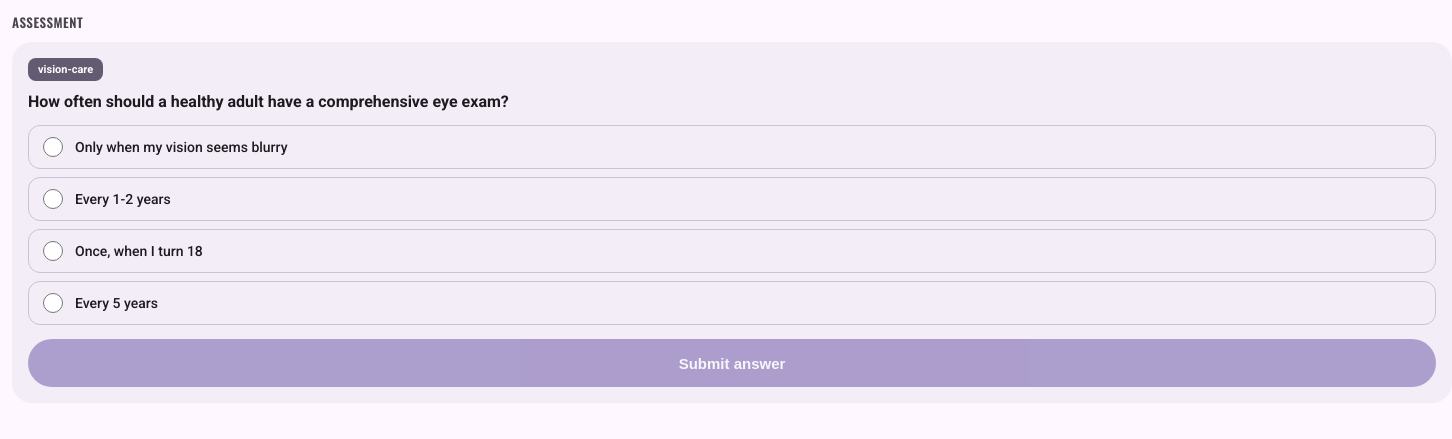
Test case: MCQ knowledge check (US-18 / FR-E4) › names the correct option when the answer is wrong
Click the radio button labelled "Once, when I turn 18" at (53, 251), box [43,241,63,261]
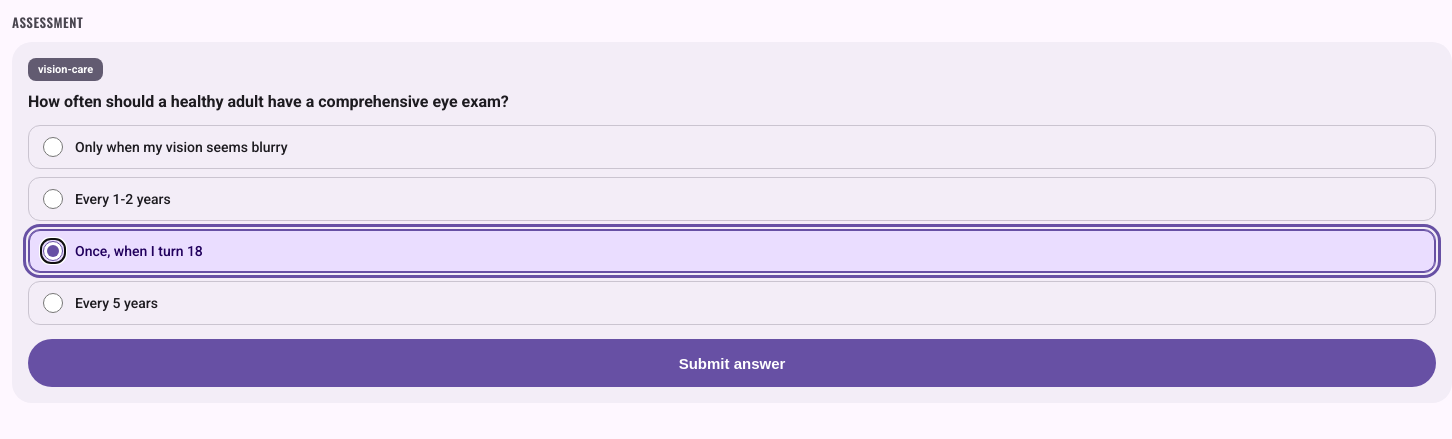
Click the button "Submit answer" at (732, 363), box [28,339,1436,387]
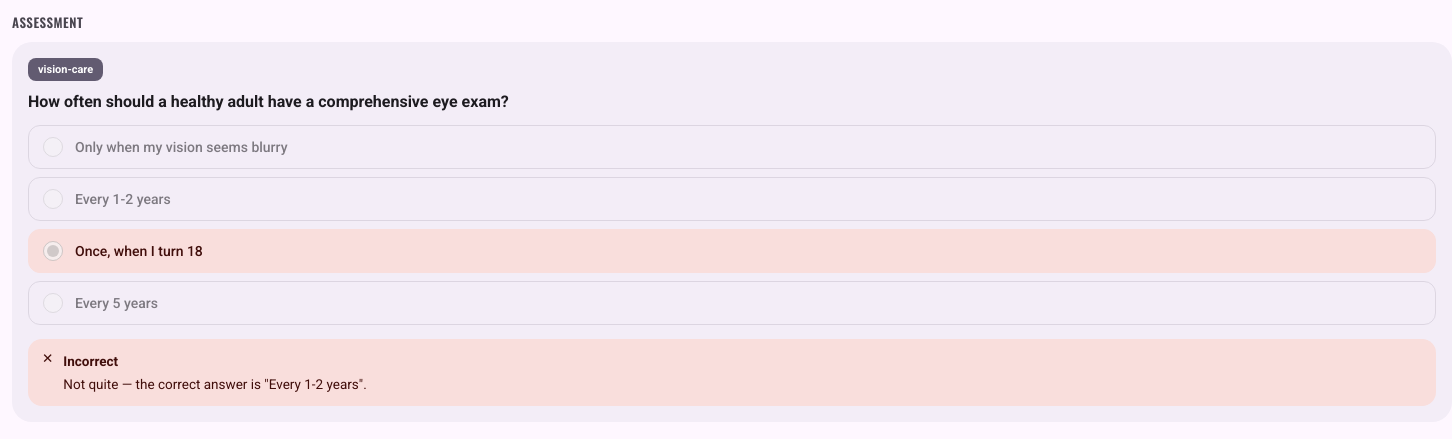
Result: the message shows "Incorrect" at [63,353,118,369]
Result: the message shows "Every 1-2 years" at [63,376,367,392]
